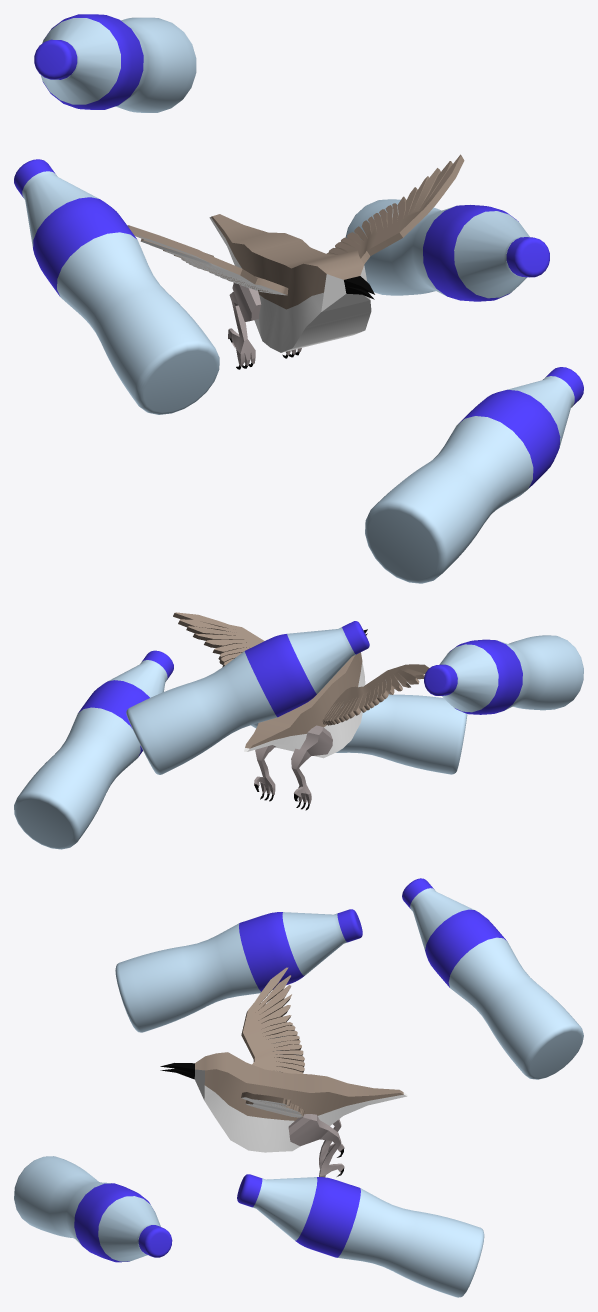
File: BirdAnimate.gltf
3 views of the same model, one above another, from view 1: azimuth 30°, elevation 25°; view 2: azimuth 150°, elevation 25°; view 3: azimuth 270°, elevation 25° (orthographic). The views are drawn at different scales.
Visible parts, largest first — view 1: Bottle_Cap1, Bottle_Cap2, Bottle_Model_Combined:Bottle_Cap1, Bottle_Cap3, Body, Wing2, Wing1, Feet2; view 2: Bottle_Cap3, Bottle_Model_Combined:Bottle_Cap1, Bottle_Cap1, Bottle_Cap2, Body, Wing1, Wing2, Feet2, Feet1; view 3: Bottle_Model_Combined:Bottle_Cap1, Bottle_Cap1, Bottle_Cap3, Bottle_Cap2, Body, Wing1, Feet1, Wing2.
Part boxes in pixels (x1=…): Bottle_Cap1: x1=14, y1=159, x2=219, y2=414; Bottle_Cap2: x1=365, y1=367, x2=583, y2=583; Bottle_Model_Combined:Bottle_Cap1: x1=345, y1=199, x2=549, y2=301; Bottle_Cap3: x1=34, y1=14, x2=196, y2=112; Body: x1=209, y1=214, x2=374, y2=352; Wing2: x1=326, y1=154, x2=464, y2=264; Wing1: x1=127, y1=225, x2=288, y2=295; Feet2: x1=228, y1=283, x2=261, y2=369; Bottle_Cap3: x1=126, y1=621, x2=369, y2=774; Bottle_Model_Combined:Bottle_Cap1: x1=14, y1=650, x2=173, y2=849; Bottle_Cap1: x1=424, y1=635, x2=583, y2=714; Bottle_Cap2: x1=251, y1=694, x2=467, y2=774; Body: x1=244, y1=629, x2=367, y2=758; Wing1: x1=322, y1=664, x2=429, y2=725; Wing2: x1=173, y1=612, x2=264, y2=667; Feet2: x1=291, y1=725, x2=332, y2=810; Feet1: x1=254, y1=723, x2=275, y2=801; Bottle_Model_Combined:Bottle_Cap1: x1=237, y1=1174, x2=484, y2=1297; Bottle_Cap1: x1=115, y1=909, x2=362, y2=1032; Bottle_Cap3: x1=402, y1=878, x2=583, y2=1079; Bottle_Cap2: x1=14, y1=1156, x2=172, y2=1262; Body: x1=160, y1=1052, x2=407, y2=1152; Wing1: x1=241, y1=967, x2=304, y2=1073; Feet1: x1=288, y1=1114, x2=344, y2=1177; Wing2: x1=241, y1=1092, x2=304, y2=1117.
Size of the model in its own units: 0.1441 by 0.1062 by 0.1802.
